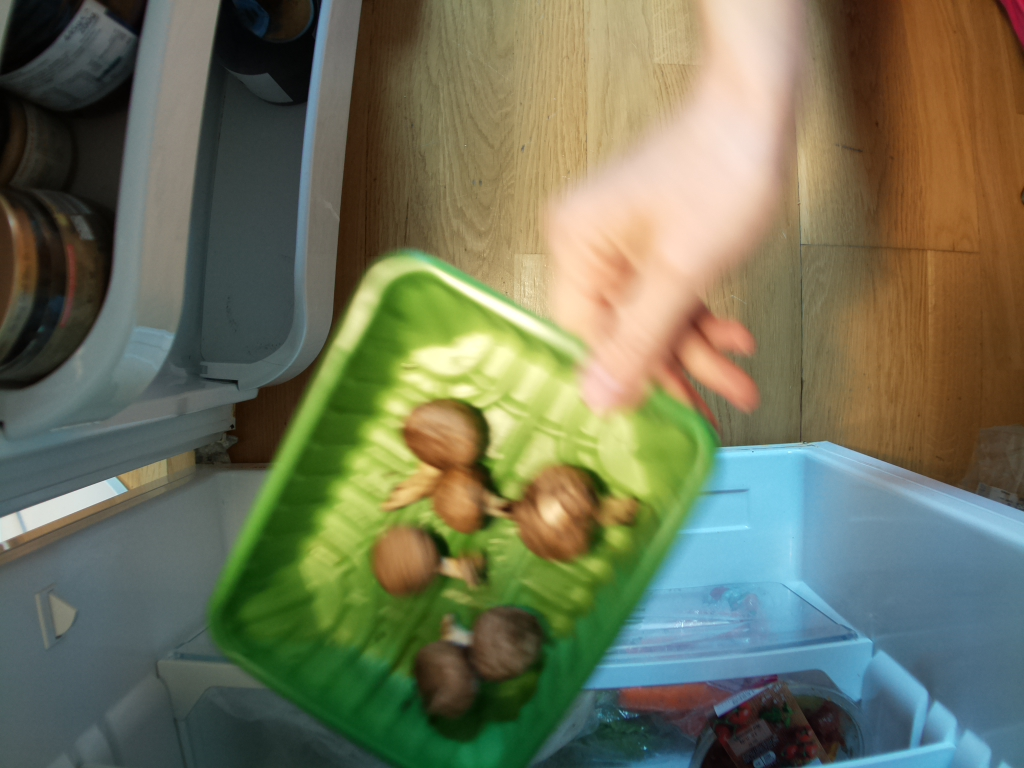mushrooms-bad: (211, 260, 706, 768)
